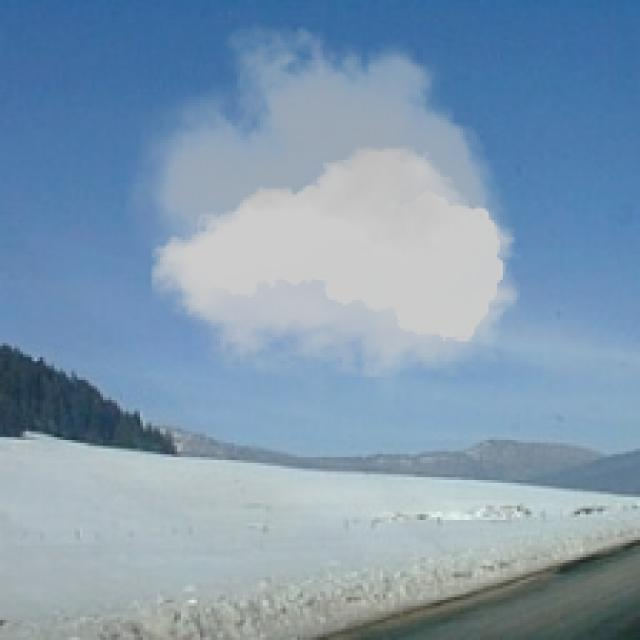smoke: (126, 3, 531, 408)
